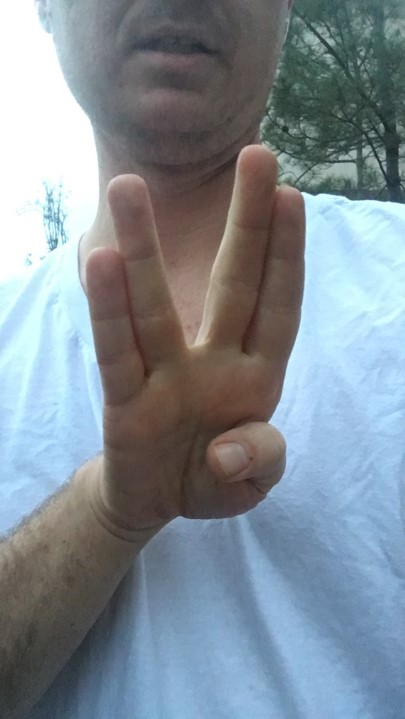hand: (86, 145, 307, 529)
